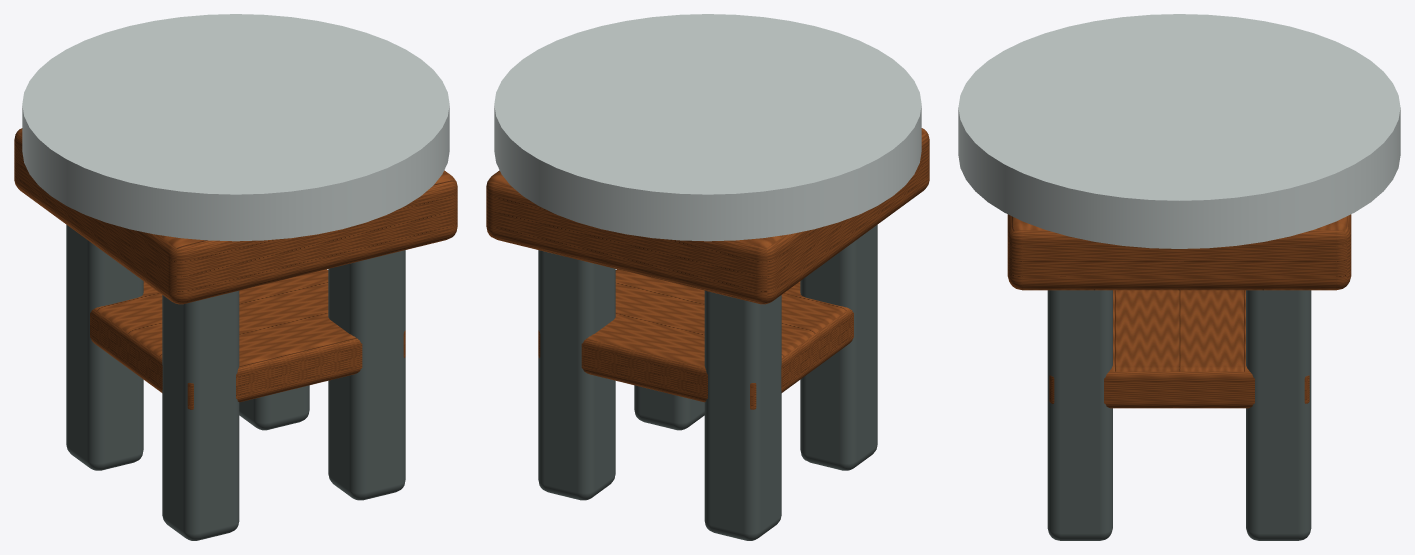
File: ceramics-pottery-studio-potters-stool-ad65398f__29492.glb
3 renders of one model, left to right at view 1: azimuth 30°, elevation 25°; view 2: azimuth 150°, elevation 25°; view 3: azimuth 270°, elevation 25°, orthographic. The views are drawn at different scales.
Parts seen in each view (by area): view 1: potters-stool; view 2: potters-stool; view 3: potters-stool.
Part boxes in pixels (x1,y1,x2,y2): potters-stool: (14, 14, 457, 540); potters-stool: (486, 14, 929, 540); potters-stool: (958, 14, 1400, 540).
Size of the model in its own units: 0.54 by 0.515 by 0.54.
Materials: 3 (1 with a texture image).
